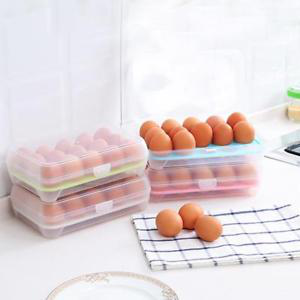egg: (15, 127, 142, 219), (138, 113, 257, 151), (147, 163, 269, 190), (153, 202, 226, 243)
